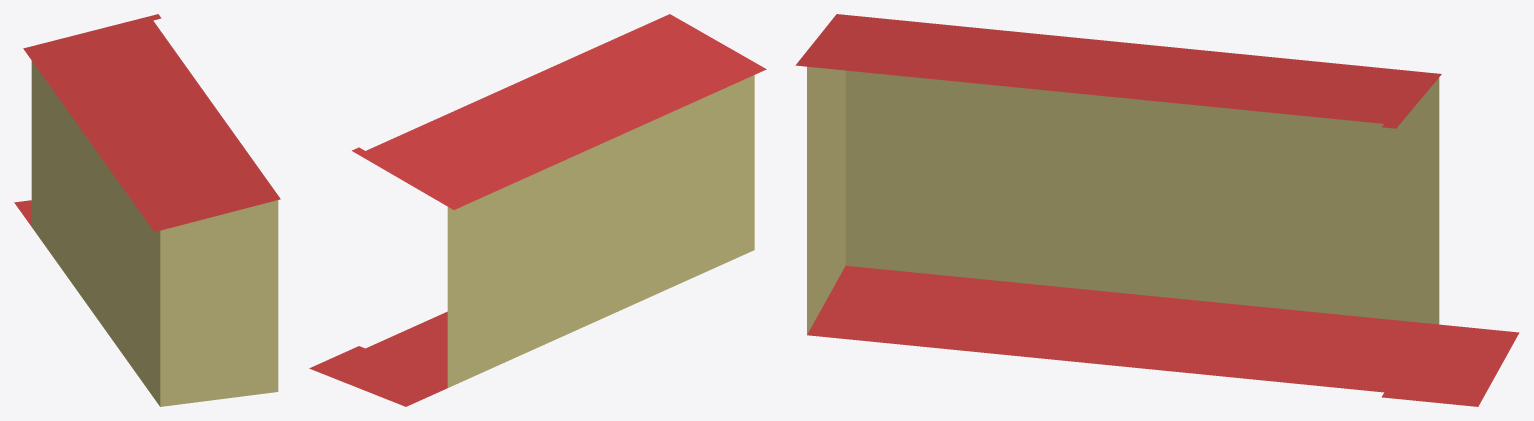
The picture shows the model from 3 angles, left to right: view 1: azimuth 30°, elevation 25°; view 2: azimuth 150°, elevation 25°; view 3: azimuth 270°, elevation 25°; orthographic projection. The views are drawn at different scales.
Bounding box in the file's own units: 7.31 × 15.17 × 6.24.
